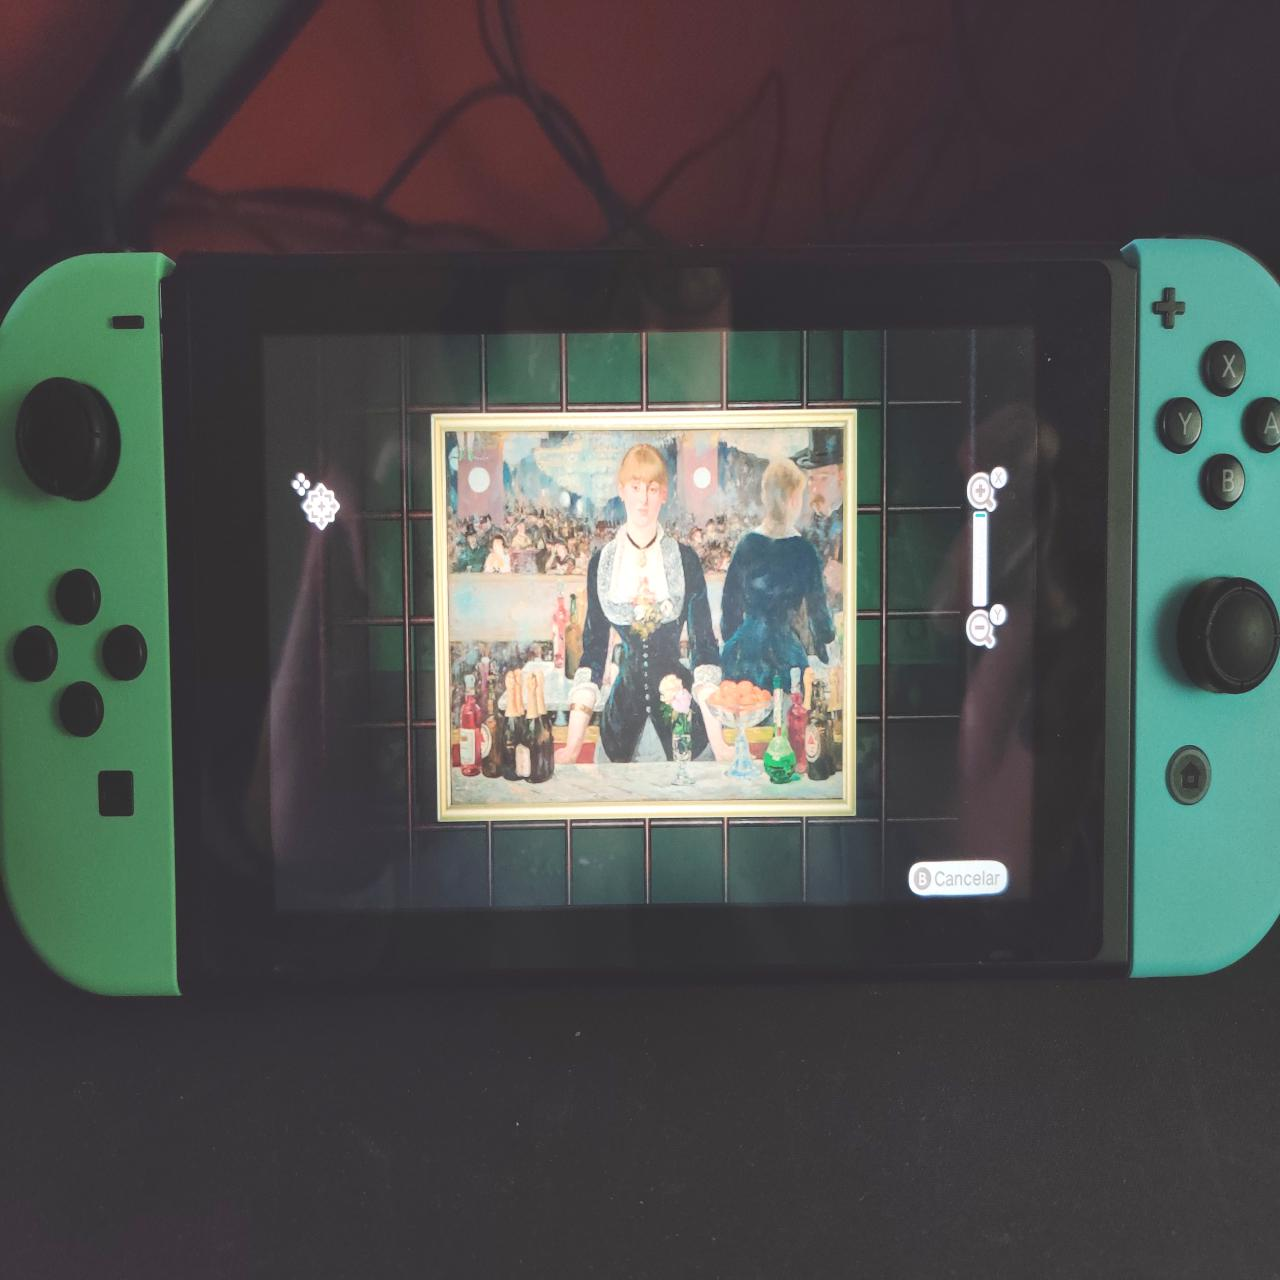BarFB: (448, 435, 844, 803)
